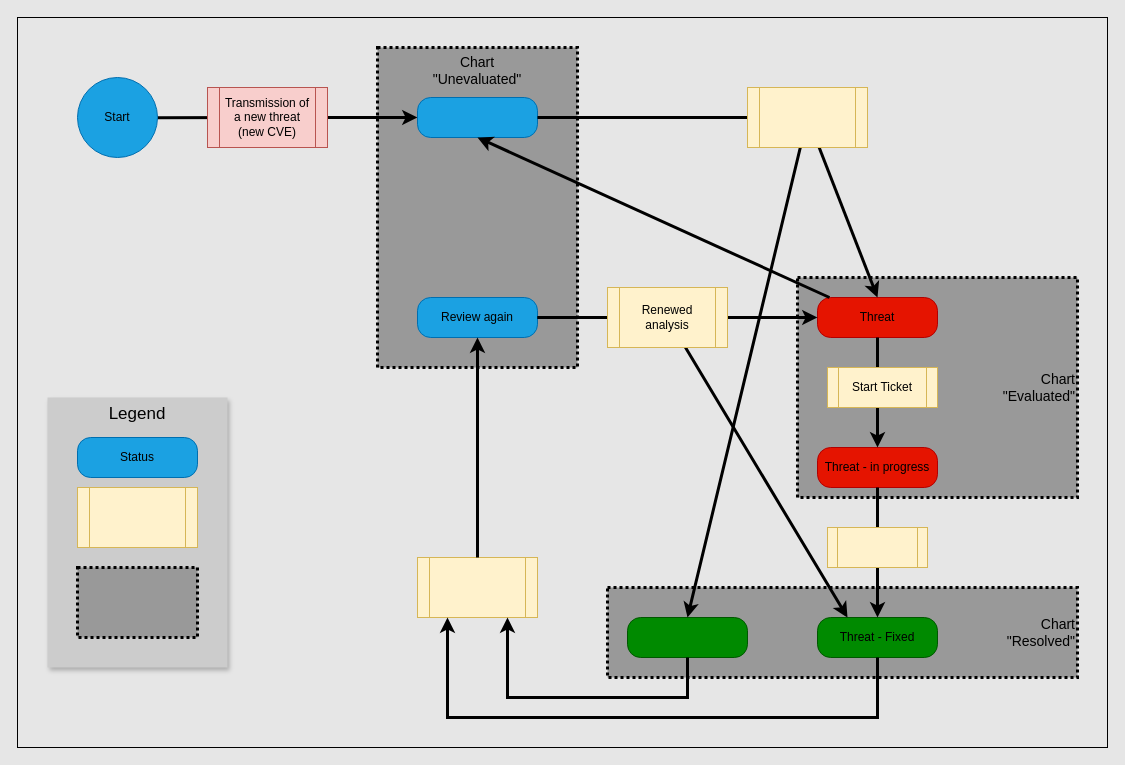
Some shapes in this 1125 by 765 pixel diagram are drawn without their labels. Each missing label, with the centre of its shape:
"Analysis" belongs at (807,117).
"Chart diagram by severity" belongs at (137,602).
"Finish Ticket" belongs at (877,547).
"No threat" belongs at (687,637).
"Review" belongs at (477,117).
"Update of threat (existing CVE)" belongs at (477,587).
"User Action" belongs at (137,517).
